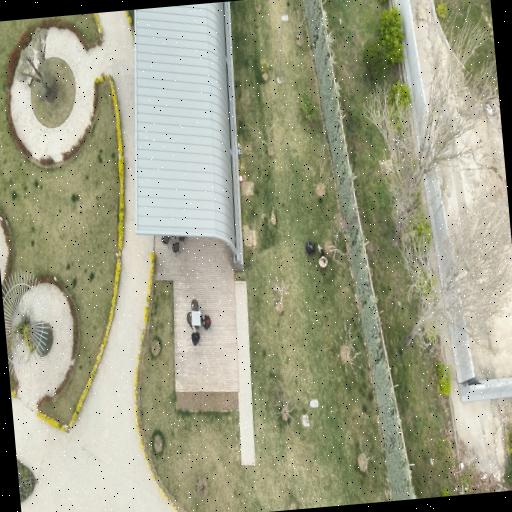person: (304, 241, 314, 255), (191, 329, 199, 346), (202, 315, 210, 330), (318, 255, 327, 268), (316, 245, 323, 256)
